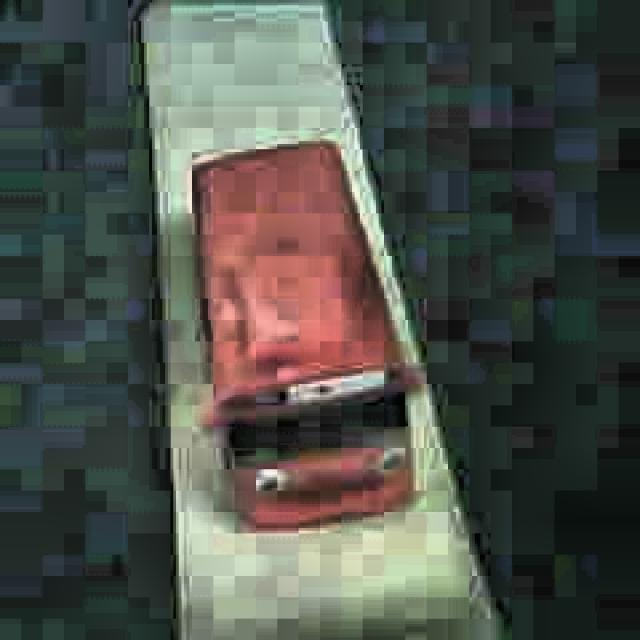bus: (190, 136, 429, 538)
